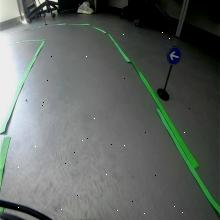left: (167, 46, 182, 66)
